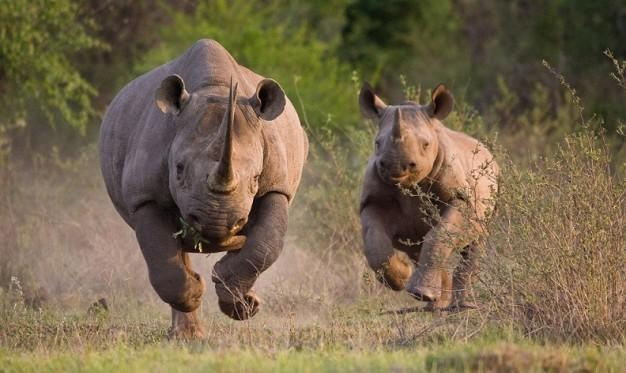rhino: (95, 34, 309, 339), (354, 79, 503, 307)
